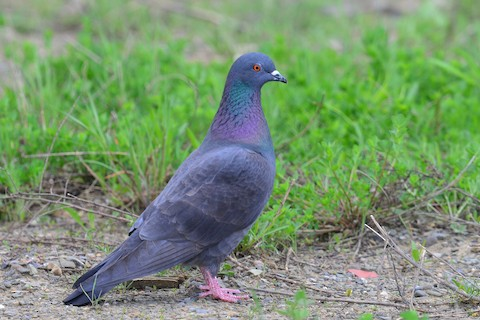pigeon: (61, 49, 291, 310)
